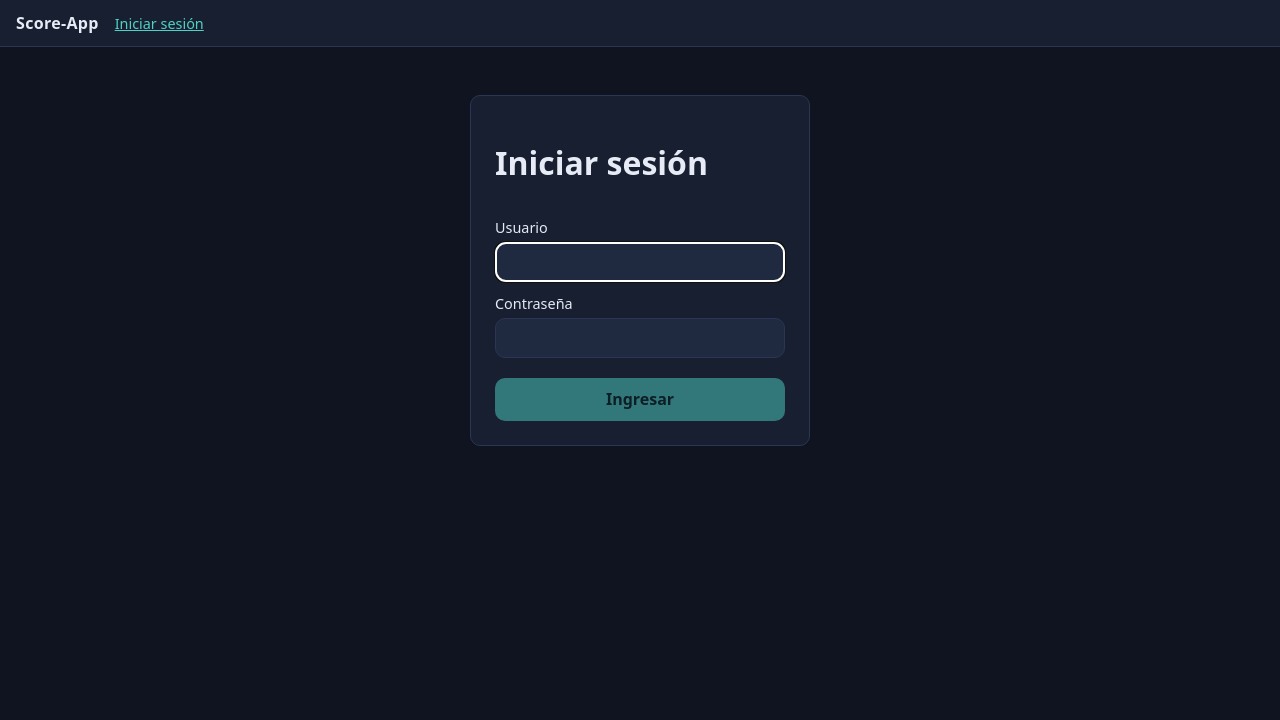
Test: Torneo Admin — dashboard scoped por torneo › Ver Torneo navega al dashboard con el header compuesto grupo + edición
The width and height of the screenshot is (1280, 720).
Type "torneo_admin_test" into the field labelled "Usuario" at point(640, 262), box left=495, top=242, right=785, bottom=282
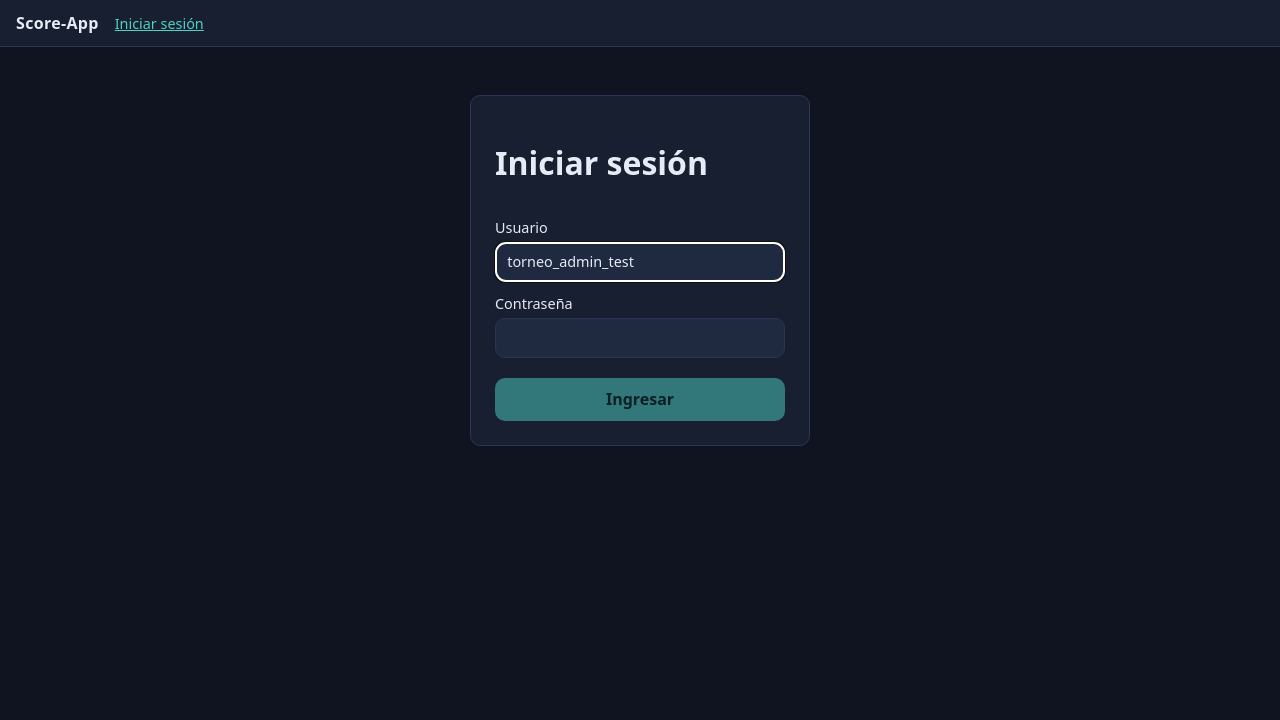
Type "clave12345" into the password field labelled "Contraseña" at point(640, 338), box left=495, top=318, right=785, bottom=358
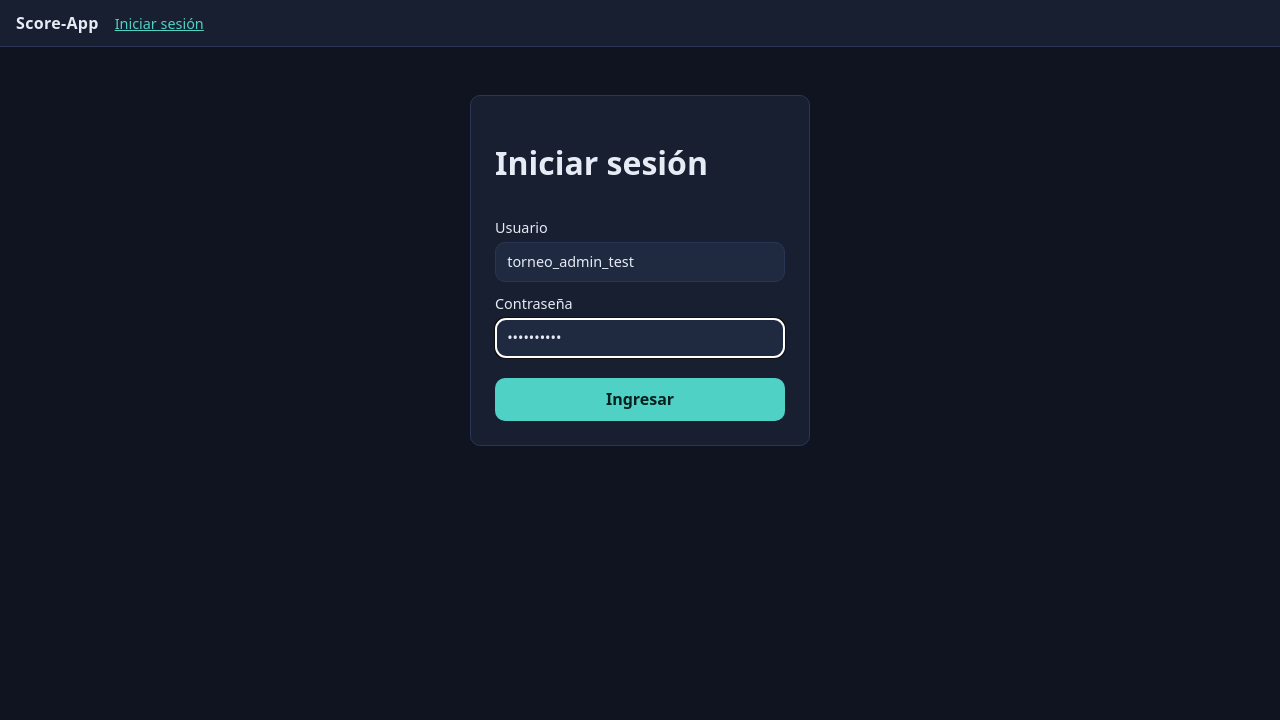
Click the button "Ingresar" at point(640, 399), box left=495, top=378, right=785, bottom=421
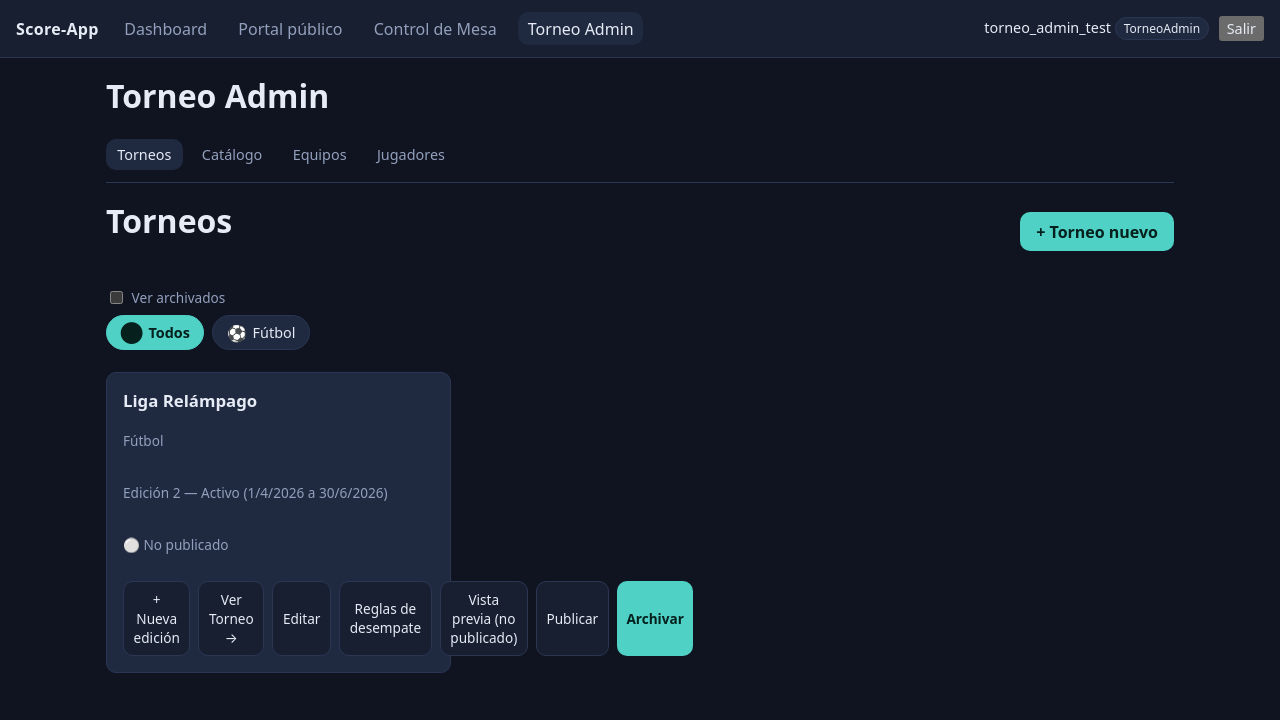
Check: the heading "Torneo Admin" is shown, box left=106, top=74, right=329, bottom=117
Check: the heading "Liga Relámpago" is shown, box left=123, top=389, right=257, bottom=412
Click the button "Ver Torneo →" at point(231, 618), box left=198, top=581, right=264, bottom=656
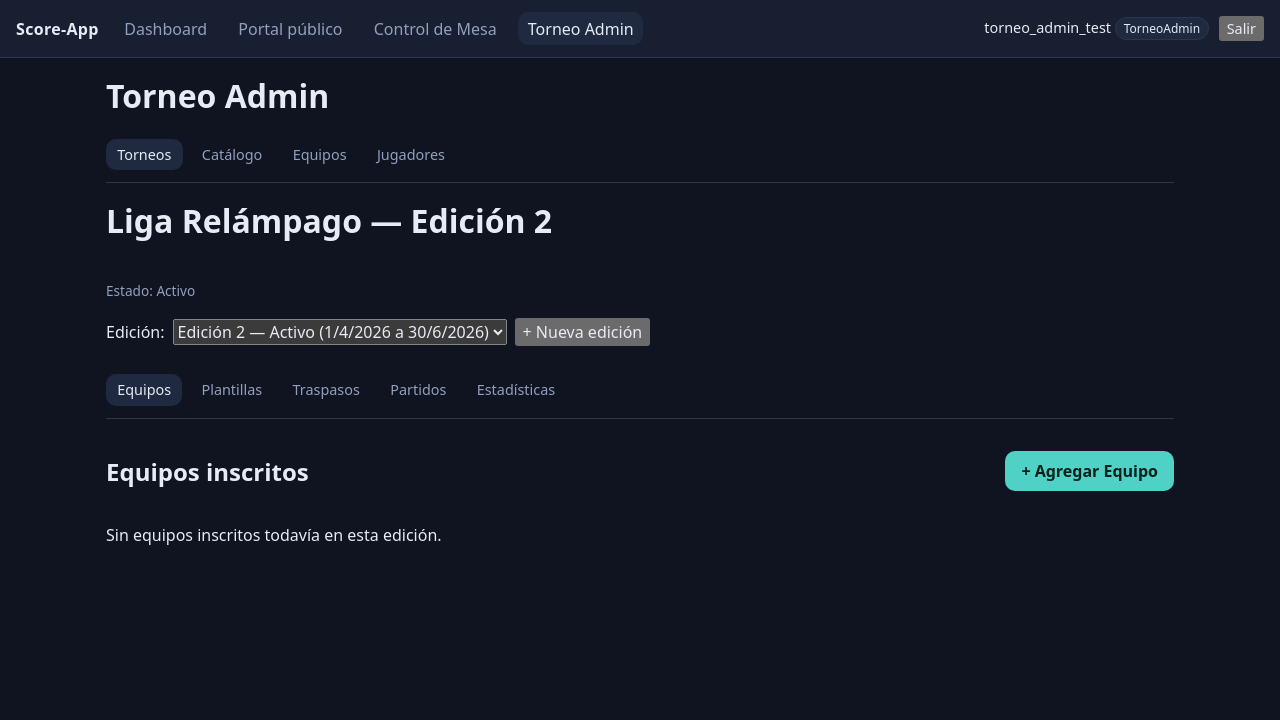
Check: the heading "Liga Relámpago — Edición 2" is shown, box left=106, top=199, right=552, bottom=242
Check: the text "Estado: Activo" is shown, box left=106, top=281, right=195, bottom=300
Check: the dropdown labelled "Edición:" is shown, box left=172, top=319, right=506, bottom=345
